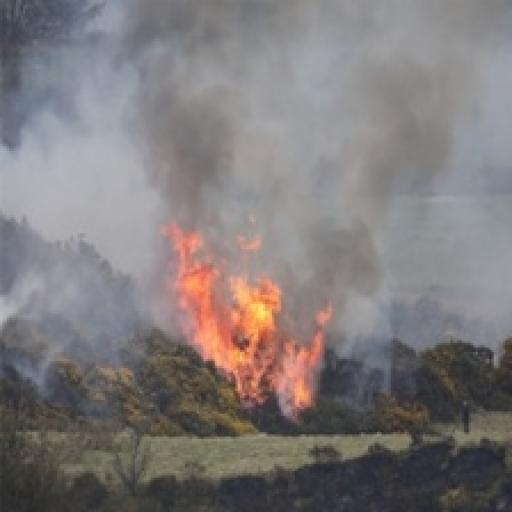fire and smoke: (165, 224, 331, 415)
